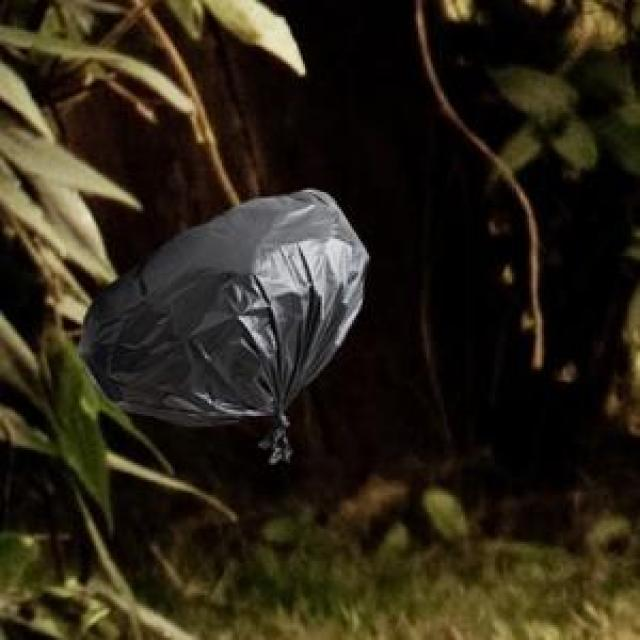miscellaneous trash: (75, 186, 365, 459)
